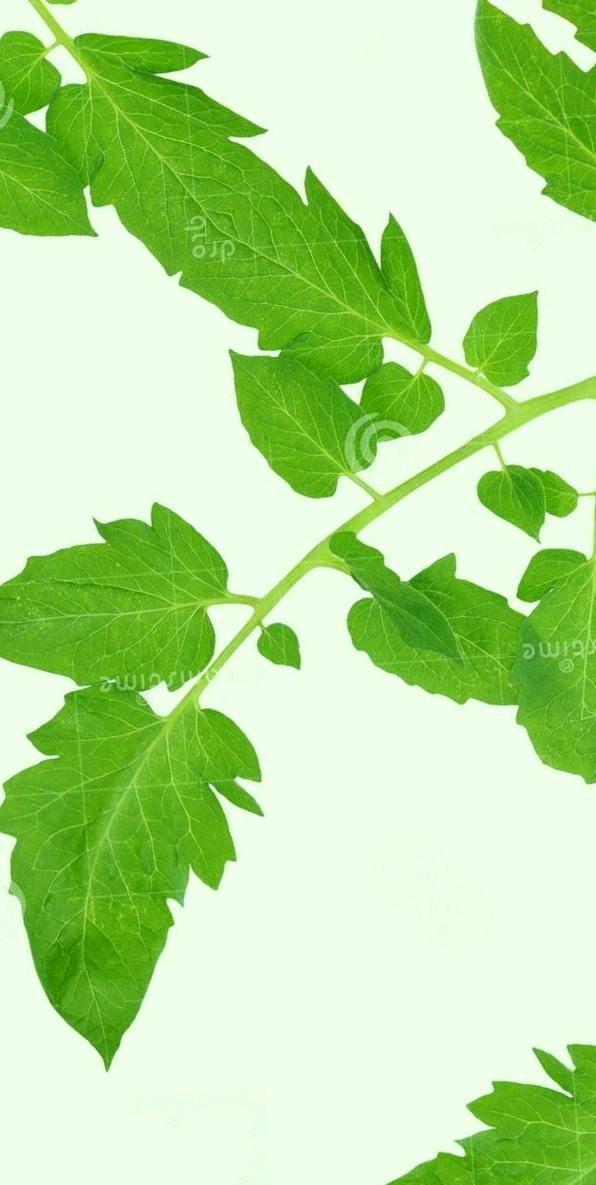Tomato leaf: (0, 621, 382, 1125), (0, 383, 319, 809), (177, 132, 480, 430), (290, 500, 575, 783), (153, 274, 432, 543), (367, 0, 596, 290), (402, 498, 596, 805)
